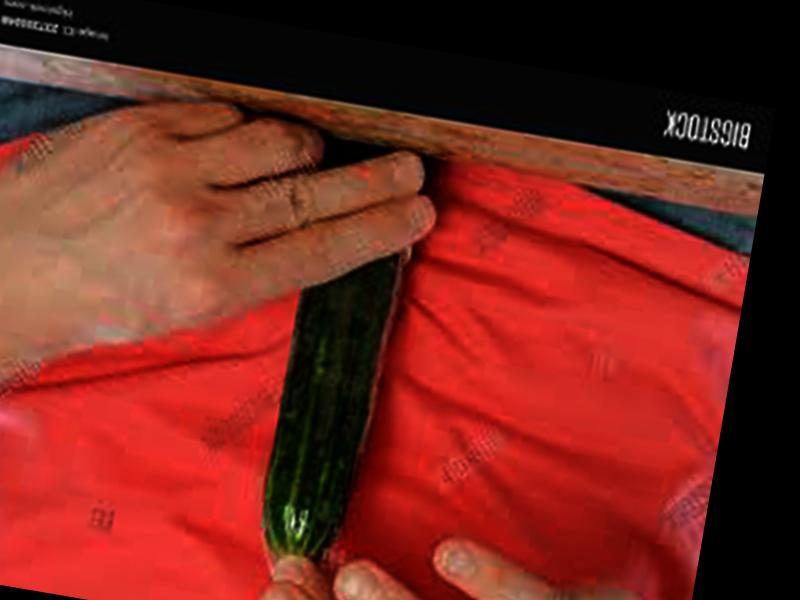Cucumber: (252, 235, 405, 567)
